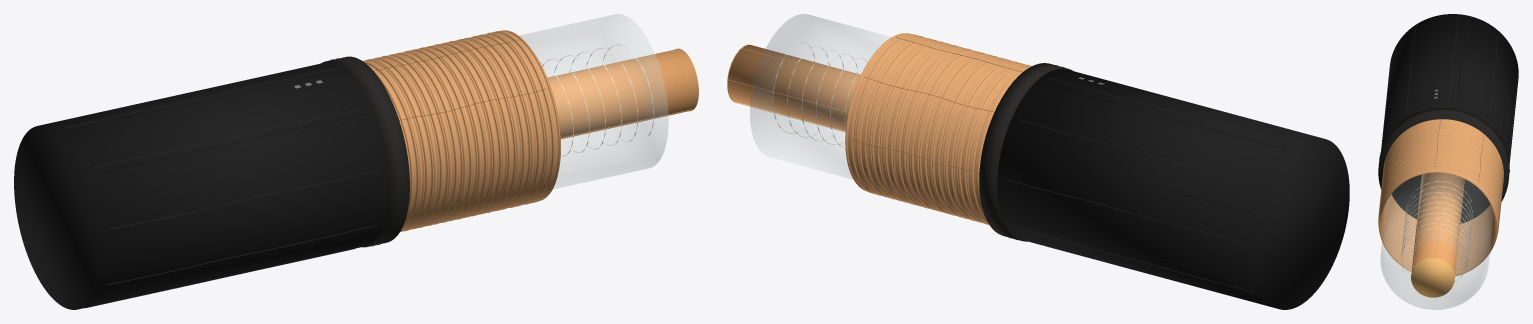
The model's file is rf-ava5-50-macro.glb.
3 views of the same model, side by side, from view 1: azimuth 30°, elevation 25°; view 2: azimuth 150°, elevation 25°; view 3: azimuth 270°, elevation 25° (orthographic). The views are drawn at different scales.
Parts seen in each view (by area): view 1: macro hardline jacket body, annular corrugated solid shield, air dielectric visual envelope, polished solid center conductor, hardline jacket cut wall, continuous PE helical air spacer, rounded jacket cut lip; view 2: macro hardline jacket body, annular corrugated solid shield, air dielectric visual envelope, polished solid center conductor, hardline jacket cut wall, continuous PE helical air spacer, rounded jacket cut lip; view 3: macro hardline jacket body, air dielectric visual envelope, annular corrugated solid shield, polished solid center conductor, hardline jacket cut wall, polished conductor cut face glow, continuous PE helical air spacer, rounded jacket cut lip.
Part boxes in pixels (bbox=[...]): macro hardline jacket body: bbox=[14, 62, 389, 309]; annular corrugated solid shield: bbox=[363, 30, 560, 232]; air dielectric visual envelope: bbox=[519, 14, 668, 188]; polished solid center conductor: bbox=[547, 49, 698, 139]; hardline jacket cut wall: bbox=[321, 56, 409, 247]; continuous PE helical air spacer: bbox=[540, 44, 653, 156]; rounded jacket cut lip: bbox=[330, 58, 400, 246]; macro hardline jacket body: bbox=[997, 69, 1349, 309]; annular corrugated solid shield: bbox=[845, 33, 1031, 224]; air dielectric visual envelope: bbox=[750, 14, 890, 179]; polished solid center conductor: bbox=[727, 45, 860, 131]; hardline jacket cut wall: bbox=[979, 63, 1072, 241]; continuous PE helical air spacer: bbox=[773, 42, 867, 148]; rounded jacket cut lip: bbox=[987, 65, 1064, 240]; macro hardline jacket body: bbox=[1381, 14, 1518, 163]; air dielectric visual envelope: bbox=[1381, 173, 1493, 309]; annular corrugated solid shield: bbox=[1378, 119, 1503, 276]; polished solid center conductor: bbox=[1411, 172, 1464, 276]; hardline jacket cut wall: bbox=[1378, 108, 1509, 223]; polished conductor cut face glow: bbox=[1411, 258, 1454, 297]; continuous PE helical air spacer: bbox=[1401, 181, 1472, 282]; rounded jacket cut lip: bbox=[1379, 110, 1509, 171].
Bounding box in the file's own units: 19.08 × 5.13 × 5.47.
